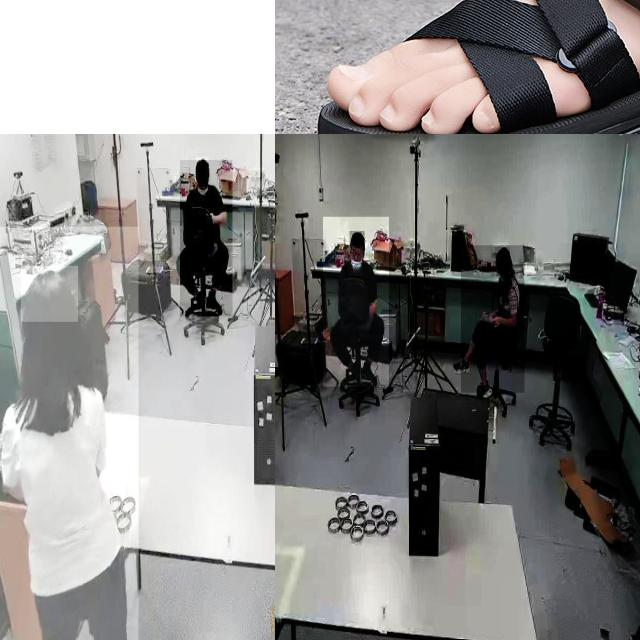Sandals: (321, 0, 640, 134)
face_mask: (495, 260, 509, 287), (349, 250, 363, 276), (198, 175, 210, 198)
glasses: (204, 288, 224, 318)
hand_noglove: (490, 314, 503, 328)
head_nohelmet: (21, 266, 78, 322), (349, 231, 365, 246), (195, 158, 209, 172), (495, 247, 511, 259)
person: (0, 226, 139, 640), (323, 217, 389, 387), (461, 245, 525, 394), (180, 160, 233, 317)
shoes: (360, 358, 381, 391), (342, 359, 362, 389), (452, 356, 472, 378)
